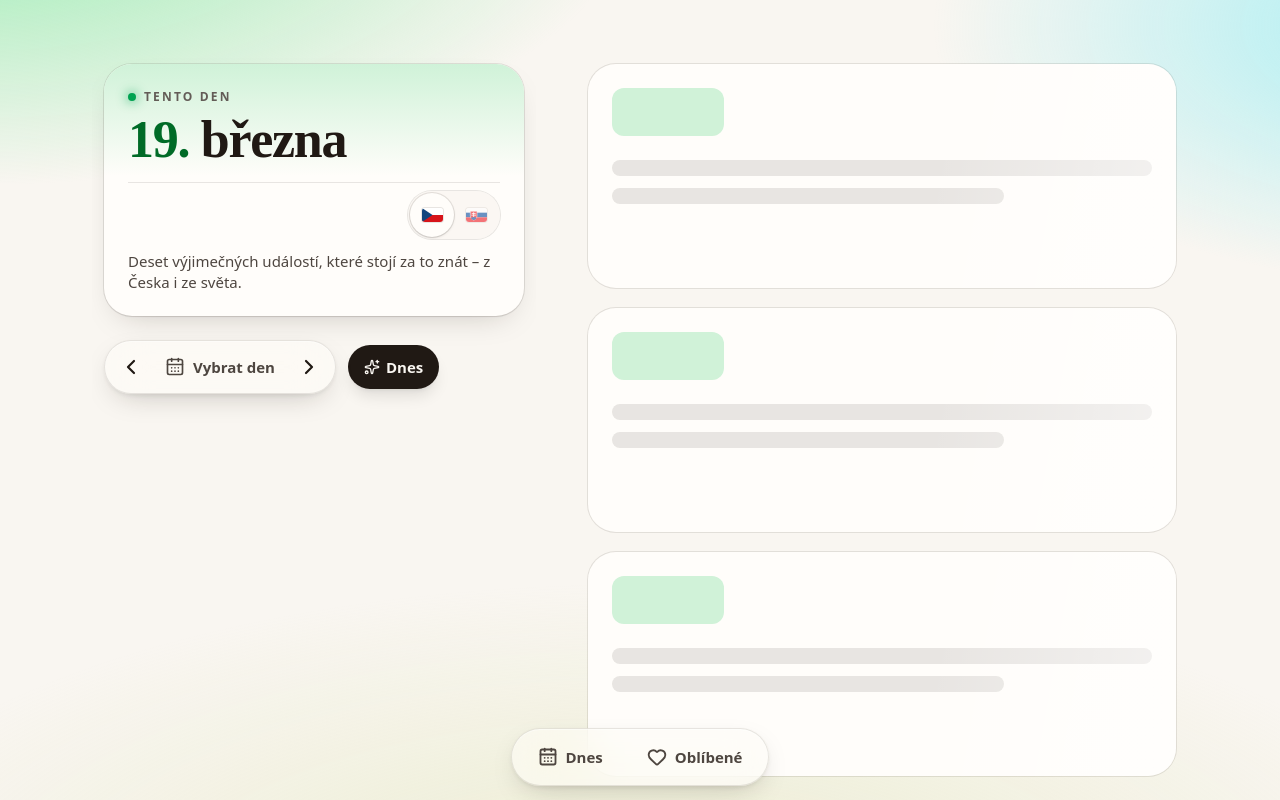
Jmeniny › bez localStorage je výchozí Česko a přepínač funguje
Click the radio button named "Slovensko".
click(476, 215)  # box [454,193,498,237]
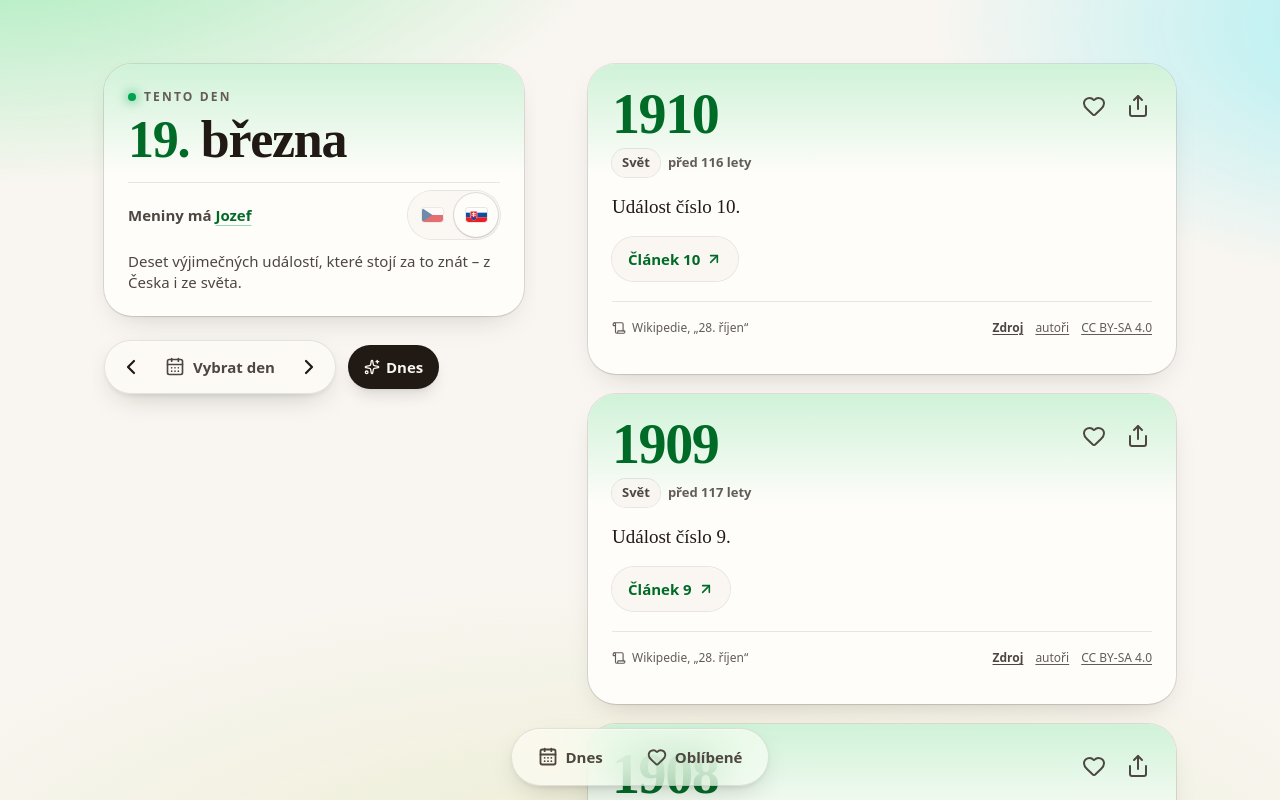
Check: the element showing "Meniny má Jozef" is shown, box [128,193,252,237]
